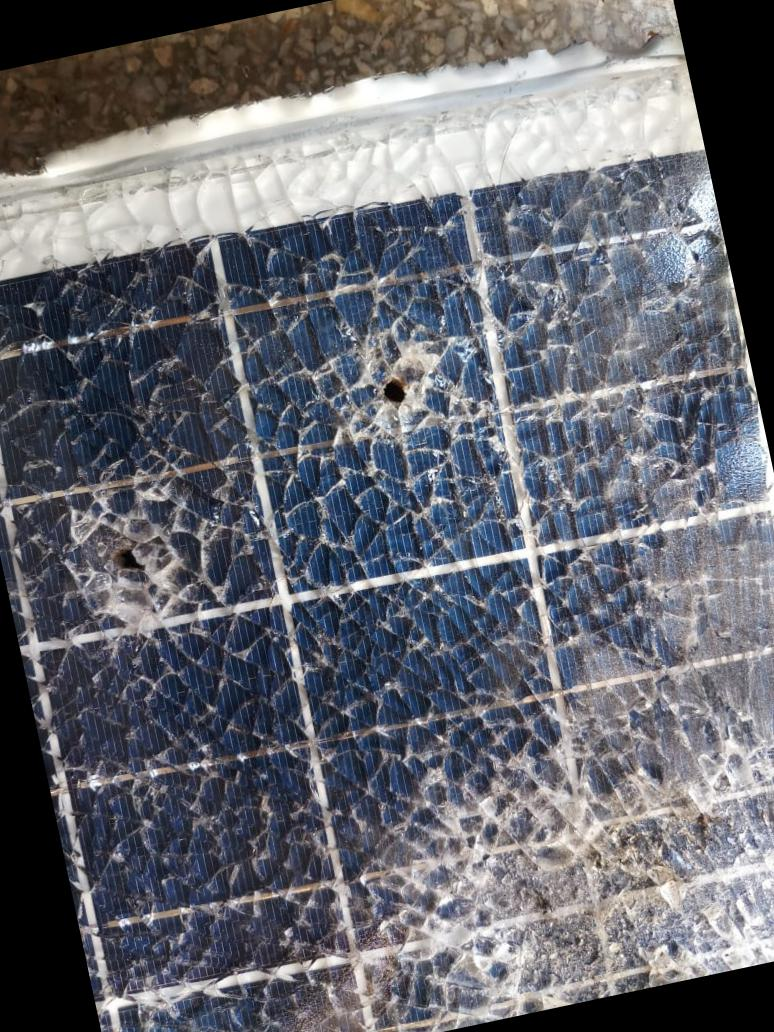Crack: (231, 425, 773, 1031), (21, 470, 239, 648), (295, 281, 481, 473)
